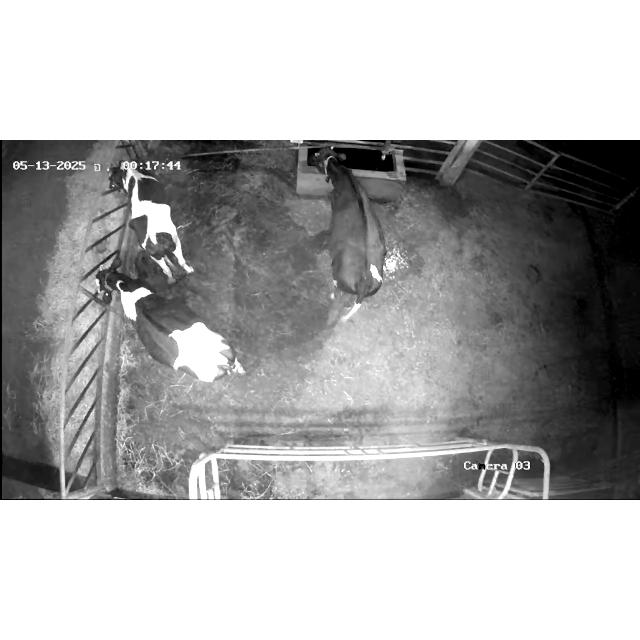drink: (300, 144, 362, 198)
eat: (64, 256, 138, 306), (88, 159, 152, 205)
